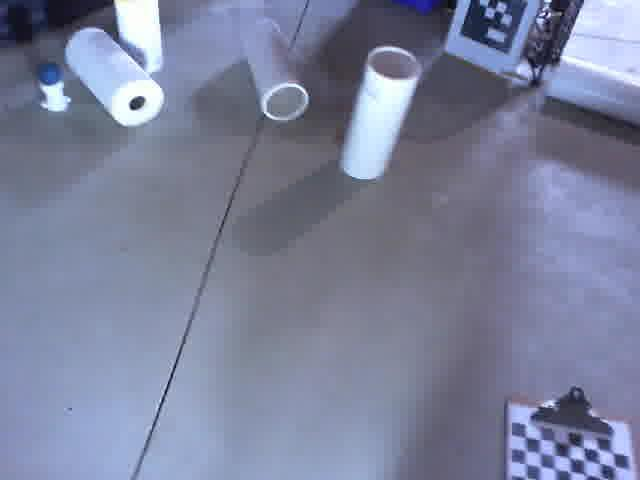coral: (335, 46, 423, 179), (66, 28, 165, 127), (239, 17, 311, 120), (113, 0, 164, 76)
